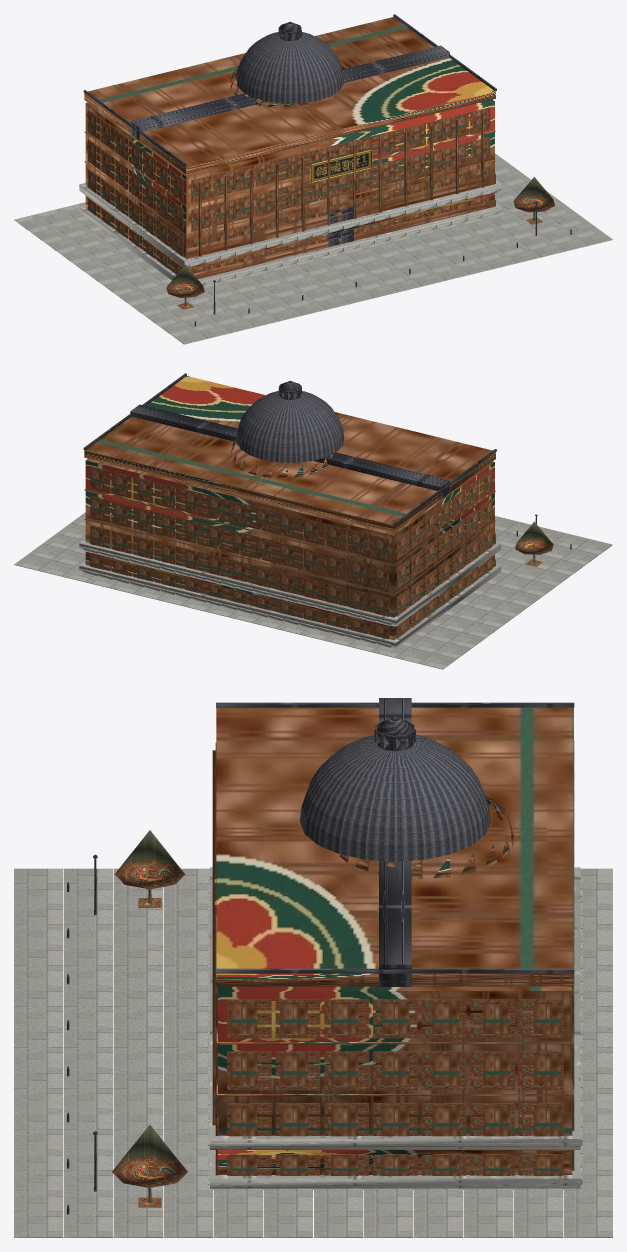
3 views of the same model, one above another, from view 1: azimuth 30°, elevation 25°; view 2: azimuth 150°, elevation 25°; view 3: azimuth 270°, elevation 25° (orthographic). The views are drawn at different scales.
Parts seen in each view (by area): view 1: 11140_02_04533_014_02__mass_body_facade, 11140_02_04533_014_01__plinth_ground_base, 11140_02_04533_014_05__window_sash_glass, 11140_02_04533_014_03__roof_deck_structure, 11140_02_04533_014_03__roof_metal_ornament, 11140_02_04533_014_06__landscape_greenery, 11140_02_04533_014_04__sign_board, 11140_02_04533_014_05__door_hardware_iron; view 2: 11140_02_04533_014_02__mass_body_facade, 11140_02_04533_014_01__plinth_ground_base, 11140_02_04533_014_03__roof_deck_structure, 11140_02_04533_014_03__roof_metal_ornament, 11140_02_04533_014_06__landscape_greenery; view 3: 11140_02_04533_014_02__mass_body_facade, 11140_02_04533_014_01__plinth_ground_base, 11140_02_04533_014_03__roof_deck_structure, 11140_02_04533_014_03__roof_metal_ornament, 11140_02_04533_014_06__landscape_greenery.
Part boxes in pixels (x1=…): 11140_02_04533_014_02__mass_body_facade: x1=84, y1=17, x2=495, y2=278; 11140_02_04533_014_01__plinth_ground_base: x1=14, y1=153, x2=612, y2=344; 11140_02_04533_014_05__window_sash_glass: x1=195, y1=109, x2=486, y2=277; 11140_02_04533_014_03__roof_deck_structure: x1=236, y1=32, x2=343, y2=103; 11140_02_04533_014_03__roof_metal_ornament: x1=83, y1=14, x2=496, y2=166; 11140_02_04533_014_06__landscape_greenery: x1=166, y1=177, x2=554, y2=309; 11140_02_04533_014_04__sign_board: x1=311, y1=150, x2=371, y2=181; 11140_02_04533_014_05__door_hardware_iron: x1=194, y1=201, x2=571, y2=326; 11140_02_04533_014_02__mass_body_facade: x1=84, y1=376, x2=495, y2=639; 11140_02_04533_014_01__plinth_ground_base: x1=14, y1=512, x2=612, y2=669; 11140_02_04533_014_03__roof_deck_structure: x1=236, y1=391, x2=343, y2=462; 11140_02_04533_014_03__roof_metal_ornament: x1=83, y1=373, x2=496, y2=525; 11140_02_04533_014_06__landscape_greenery: x1=515, y1=521, x2=553, y2=566; 11140_02_04533_014_02__mass_body_facade: x1=212, y1=707, x2=574, y2=1175; 11140_02_04533_014_01__plinth_ground_base: x1=14, y1=867, x2=612, y2=1237; 11140_02_04533_014_03__roof_deck_structure: x1=300, y1=735, x2=490, y2=861; 11140_02_04533_014_03__roof_metal_ornament: x1=216, y1=698, x2=574, y2=986; 11140_02_04533_014_06__landscape_greenery: x1=112, y1=830, x2=187, y2=1207.
Size of the model in its own units: 63.95 by 27.29 by 43.95.
Materials: 7 (7 with a texture image).
